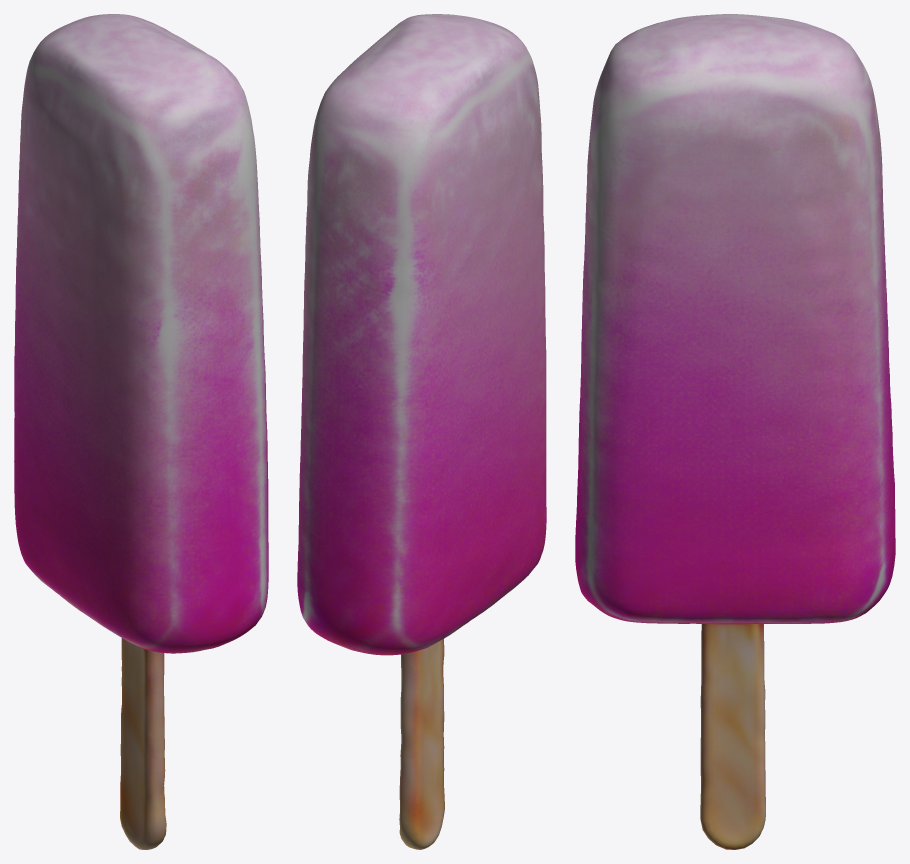
Rendered from fruit_ice.glb.
The picture shows the model from 3 angles, left to right: view 1: azimuth 30°, elevation 25°; view 2: azimuth 150°, elevation 25°; view 3: azimuth 270°, elevation 25°; orthographic projection.
Parts seen in each view (by area): view 1: mesh_base_material_0; view 2: mesh_base_material_0; view 3: mesh_base_material_0.
Part boxes in pixels (x1,y1,x2,y2): mesh_base_material_0: (14, 14, 268, 849); mesh_base_material_0: (297, 14, 546, 849); mesh_base_material_0: (575, 14, 895, 849).
Bounding box in the file's own units: 0.2012 × 0.9997 × 0.3558.
1 material, 1 textured.
